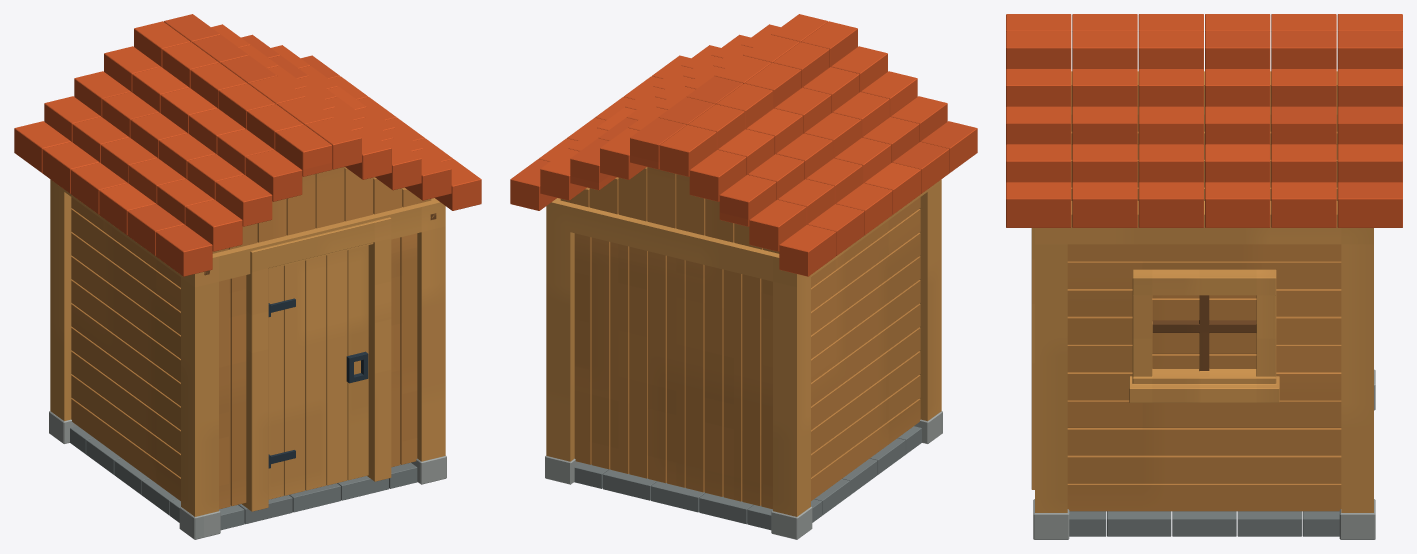
The model's file is SM_VMF_Building_FarmShed.fbx.
3 views of the same model, side by side, from view 1: azimuth 30°, elevation 25°; view 2: azimuth 150°, elevation 25°; view 3: azimuth 270°, elevation 25° (orthographic). The views are drawn at different scales.
Visible parts, largest first — view 1: SM_VMF_Building_FarmShed_Roof, SM_VMF_Building_FarmShed_Siding, SM_VMF_Building_FarmShed_TimberFrame, SM_VMF_Building_FarmShed_Pivot_Door_DoorPanel, SM_VMF_Building_FarmShed_DoorWindowTrim, SM_VMF_Building_FarmShed_Foundation, SM_VMF_Building_FarmShed_CornerBlocksAndPegs, SM_VMF_Building_FarmShed_Pivot_Door_Hardware; view 2: SM_VMF_Building_FarmShed_Siding, SM_VMF_Building_FarmShed_Roof, SM_VMF_Building_FarmShed_TimberFrame, SM_VMF_Building_FarmShed_Foundation, SM_VMF_Building_FarmShed_CornerBlocksAndPegs; view 3: SM_VMF_Building_FarmShed_Roof, SM_VMF_Building_FarmShed_Siding, SM_VMF_Building_FarmShed_TimberFrame, SM_VMF_Building_FarmShed_DoorWindowTrim, SM_VMF_Building_FarmShed_Foundation, SM_VMF_Building_FarmShed_CornerBlocksAndPegs.
Boxes of the visible parts, x1,y1,x2,y2 form: SM_VMF_Building_FarmShed_Roof: (14,14,481,276); SM_VMF_Building_FarmShed_Siding: (71,167,431,509); SM_VMF_Building_FarmShed_TimberFrame: (50,179,445,516); SM_VMF_Building_FarmShed_Pivot_Door_DoorPanel: (268,245,368,499); SM_VMF_Building_FarmShed_DoorWindowTrim: (242,217,391,511); SM_VMF_Building_FarmShed_Foundation: (70,426,417,530); SM_VMF_Building_FarmShed_CornerBlocksAndPegs: (49,213,446,539); SM_VMF_Building_FarmShed_Pivot_Door_Hardware: (268,298,368,468); SM_VMF_Building_FarmShed_Siding: (560,167,920,509); SM_VMF_Building_FarmShed_Roof: (510,14,977,276); SM_VMF_Building_FarmShed_TimberFrame: (546,179,941,516); SM_VMF_Building_FarmShed_Foundation: (574,426,921,530); SM_VMF_Building_FarmShed_CornerBlocksAndPegs: (545,411,942,539); SM_VMF_Building_FarmShed_Roof: (1006,14,1402,227); SM_VMF_Building_FarmShed_Siding: (1067,114,1341,511); SM_VMF_Building_FarmShed_TimberFrame: (1035,71,1373,512); SM_VMF_Building_FarmShed_DoorWindowTrim: (1031,228,1279,489); SM_VMF_Building_FarmShed_Foundation: (1069,511,1339,536); SM_VMF_Building_FarmShed_CornerBlocksAndPegs: (1033,369,1375,539).
Bounding box in the file's own units: 248 × 296 × 243.
Materials: 1 (1 with a texture image).
